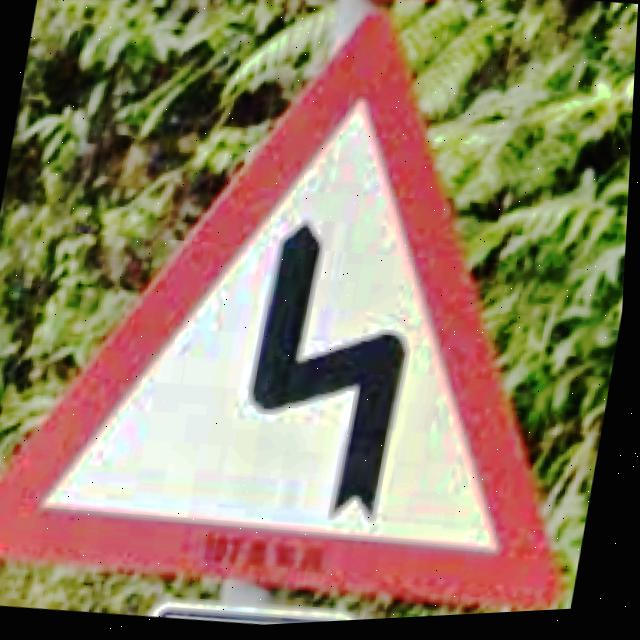doublebendleft: (0, 13, 571, 614)
